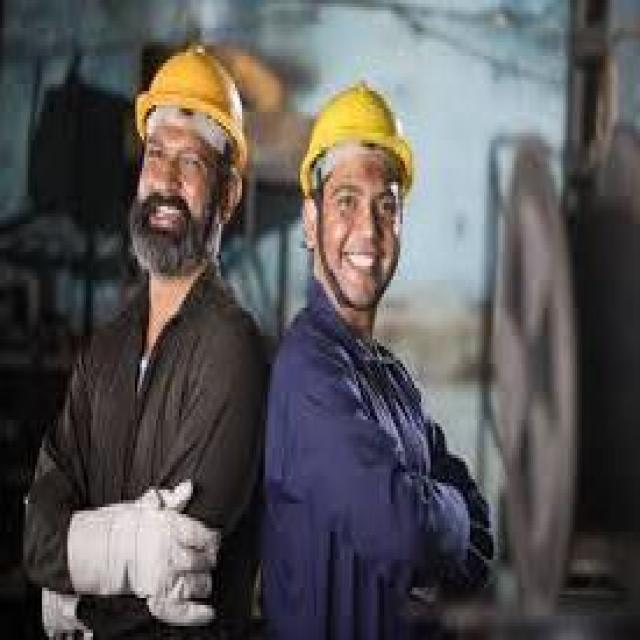safety_helmet: (130, 41, 255, 171), (293, 76, 421, 192)
